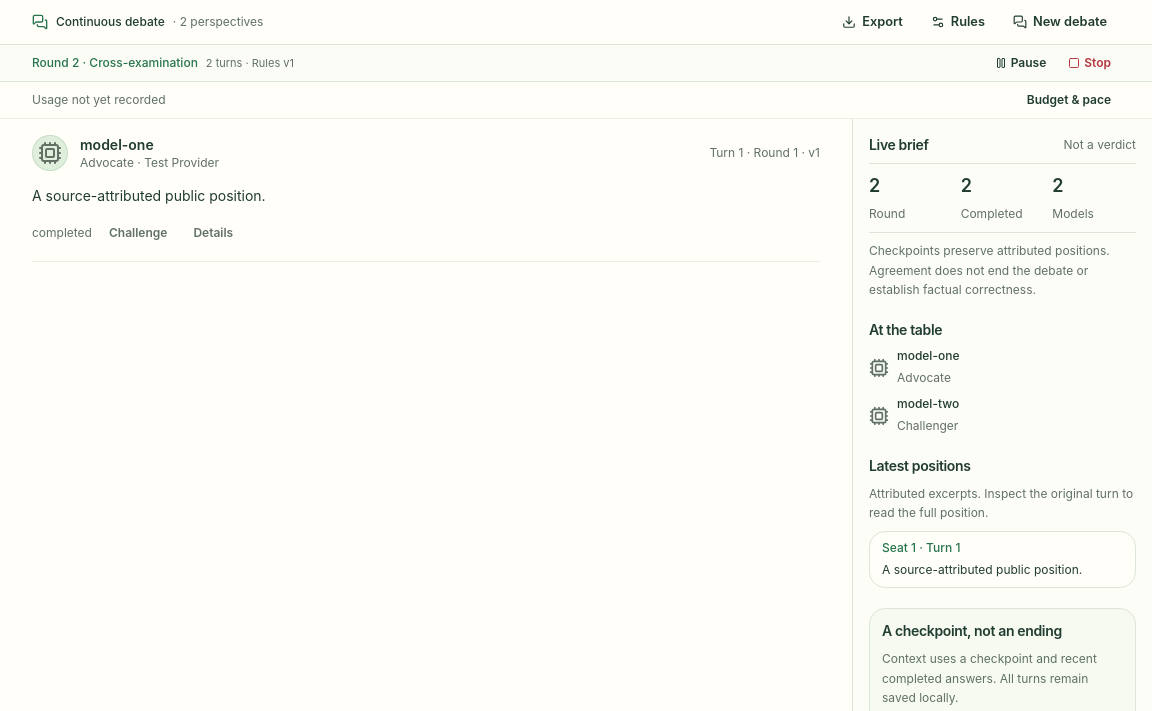
Test case: workspace controls pause, step, resume, and stop through commands
Later steps or results of the test are not shown.
Expected: the text "A source-attributed public position." below "Test Provider" is shown, [32,187,266,204]
Click the button "Pause" at (1020, 63), box [986,51,1055,75]
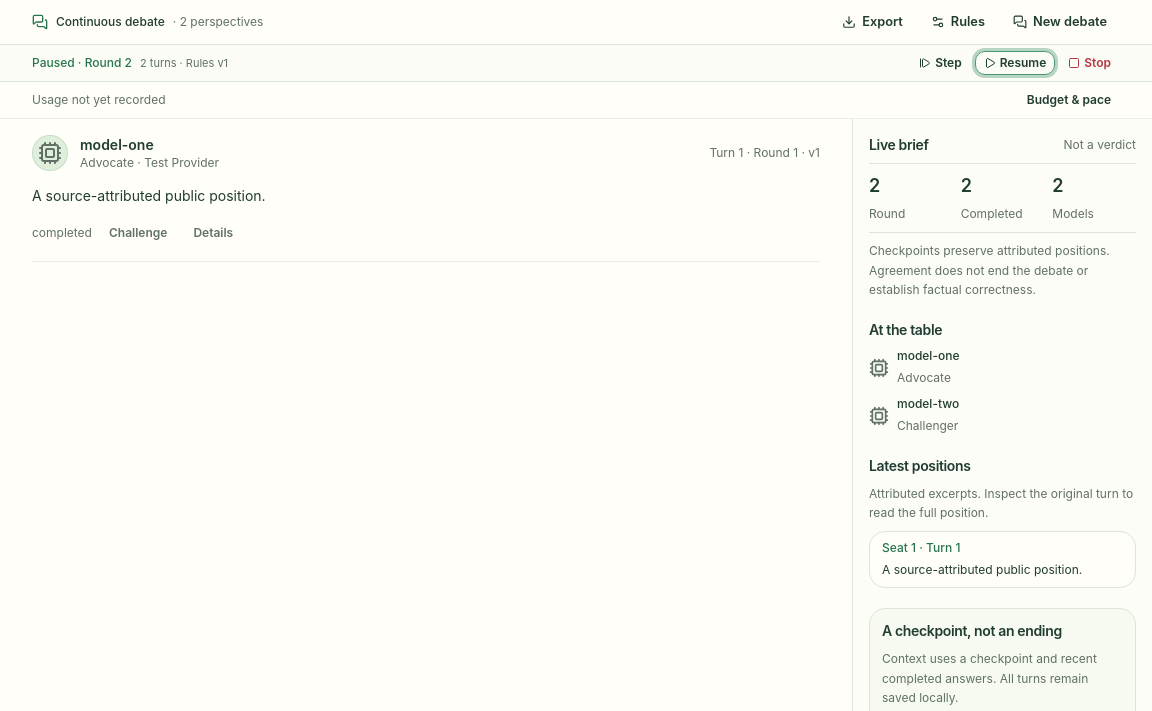
Expected: the button "Resume" is shown, [975,51,1055,75]
Click the button "Step" at (940, 63), box [910,51,971,75]
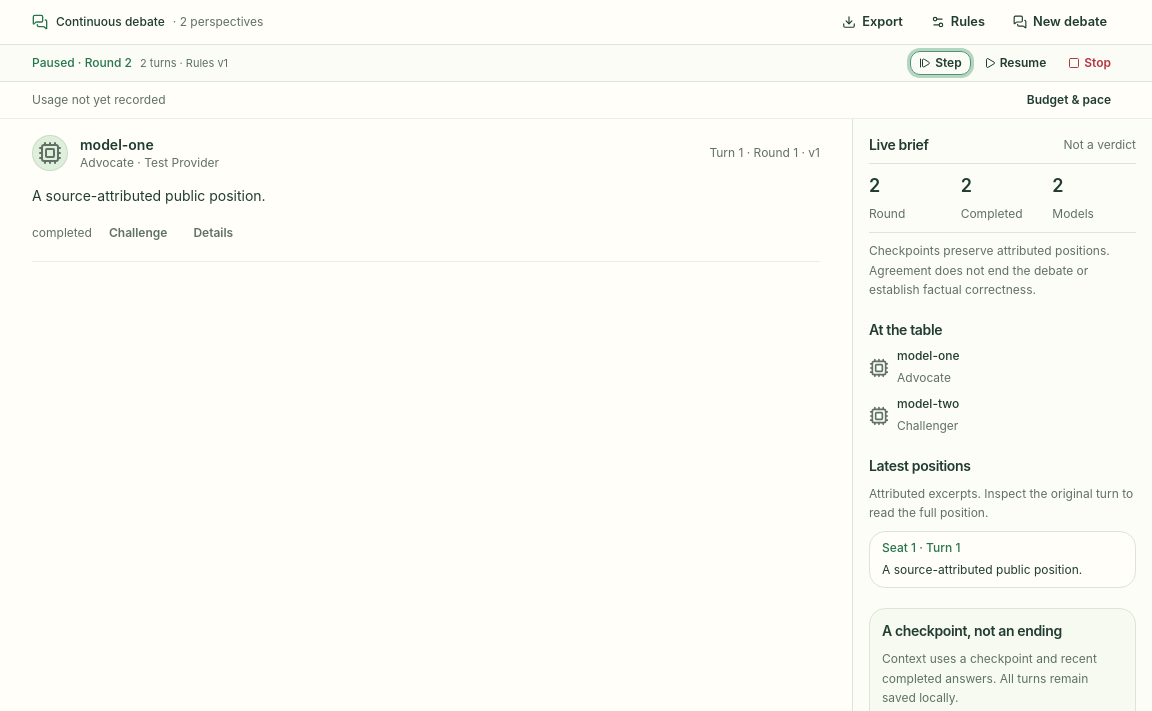
Click the button "Resume" at (1015, 63), box [975,51,1055,75]
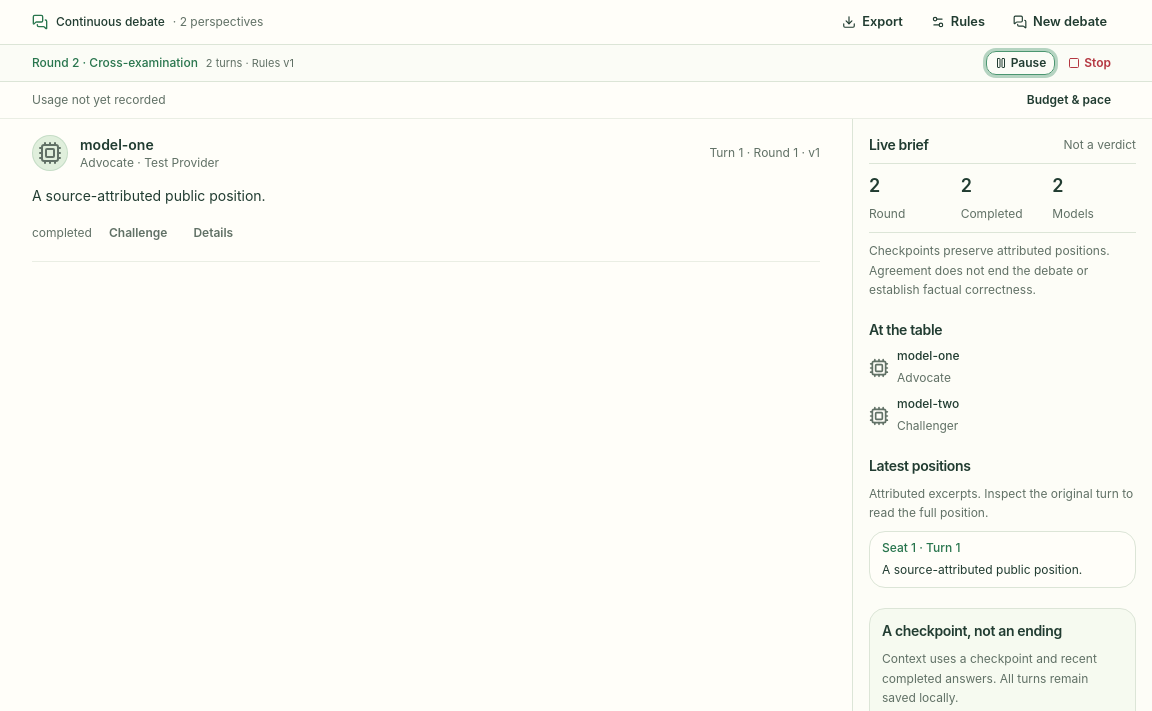
Expected: the button "Pause" is shown, [986,51,1055,75]
Click the button "Stop" at (1090, 63), box [1059,51,1120,75]
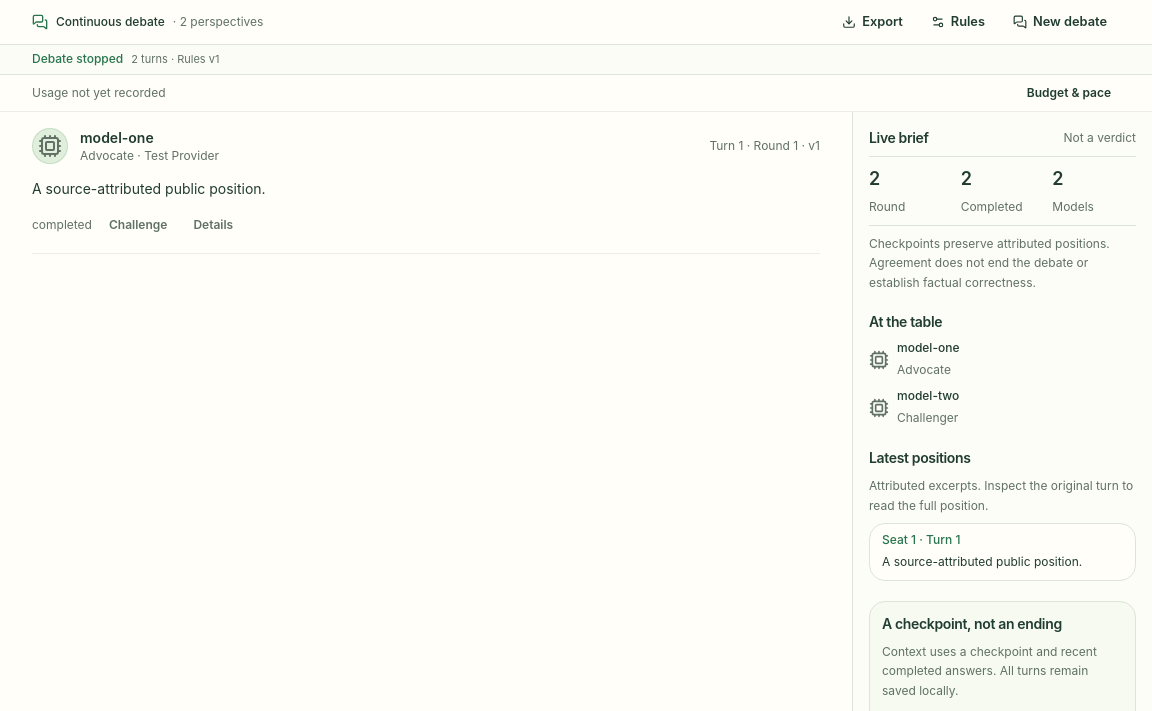
Expected: the button "Resume" is not shown
Expected: the text "Debate stopped" is shown, [32,51,123,67]
